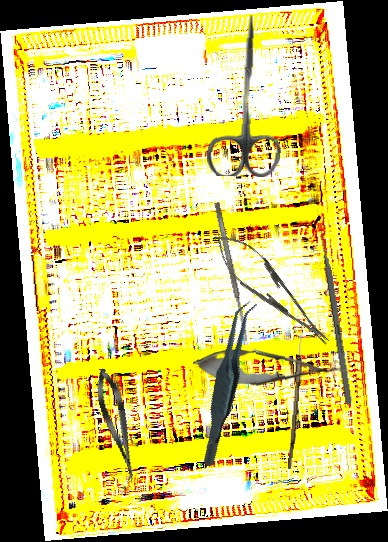Iris Scissors: (206, 13, 286, 178)
Micro Scissor: (192, 345, 349, 390), (90, 365, 144, 486)
Needle Holder: (202, 222, 341, 357)
Pusher: (316, 218, 353, 405)
Spatula Surgical: (213, 201, 250, 342)
Surgical Spoon: (287, 317, 306, 470)
Tissue Forceps: (169, 297, 286, 468)
